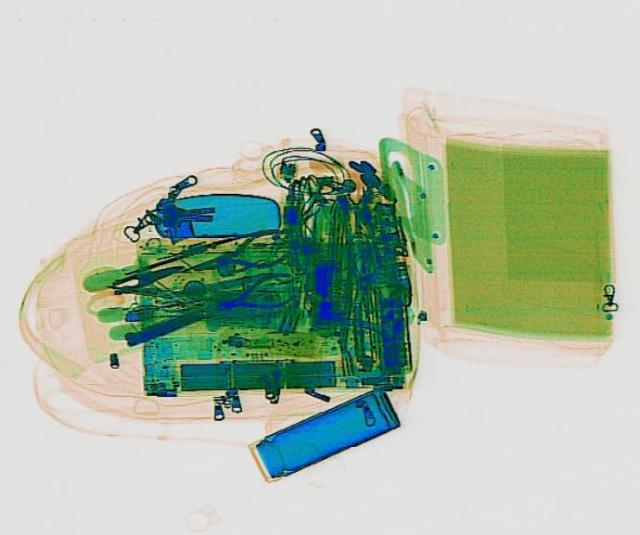Pliers: (185, 225, 295, 284), (207, 267, 301, 322)
